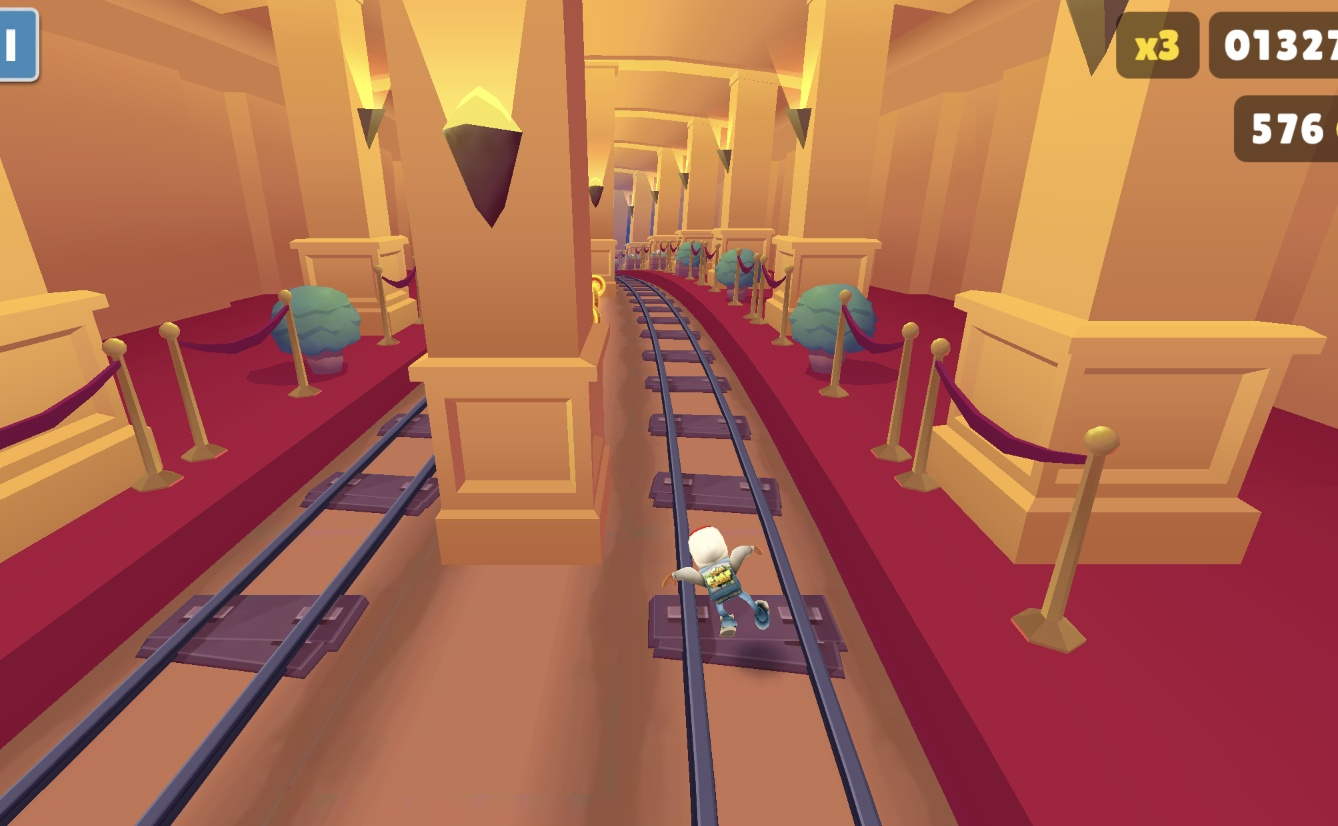pillar: (352, 0, 612, 569)
train: (594, 190, 609, 282)
